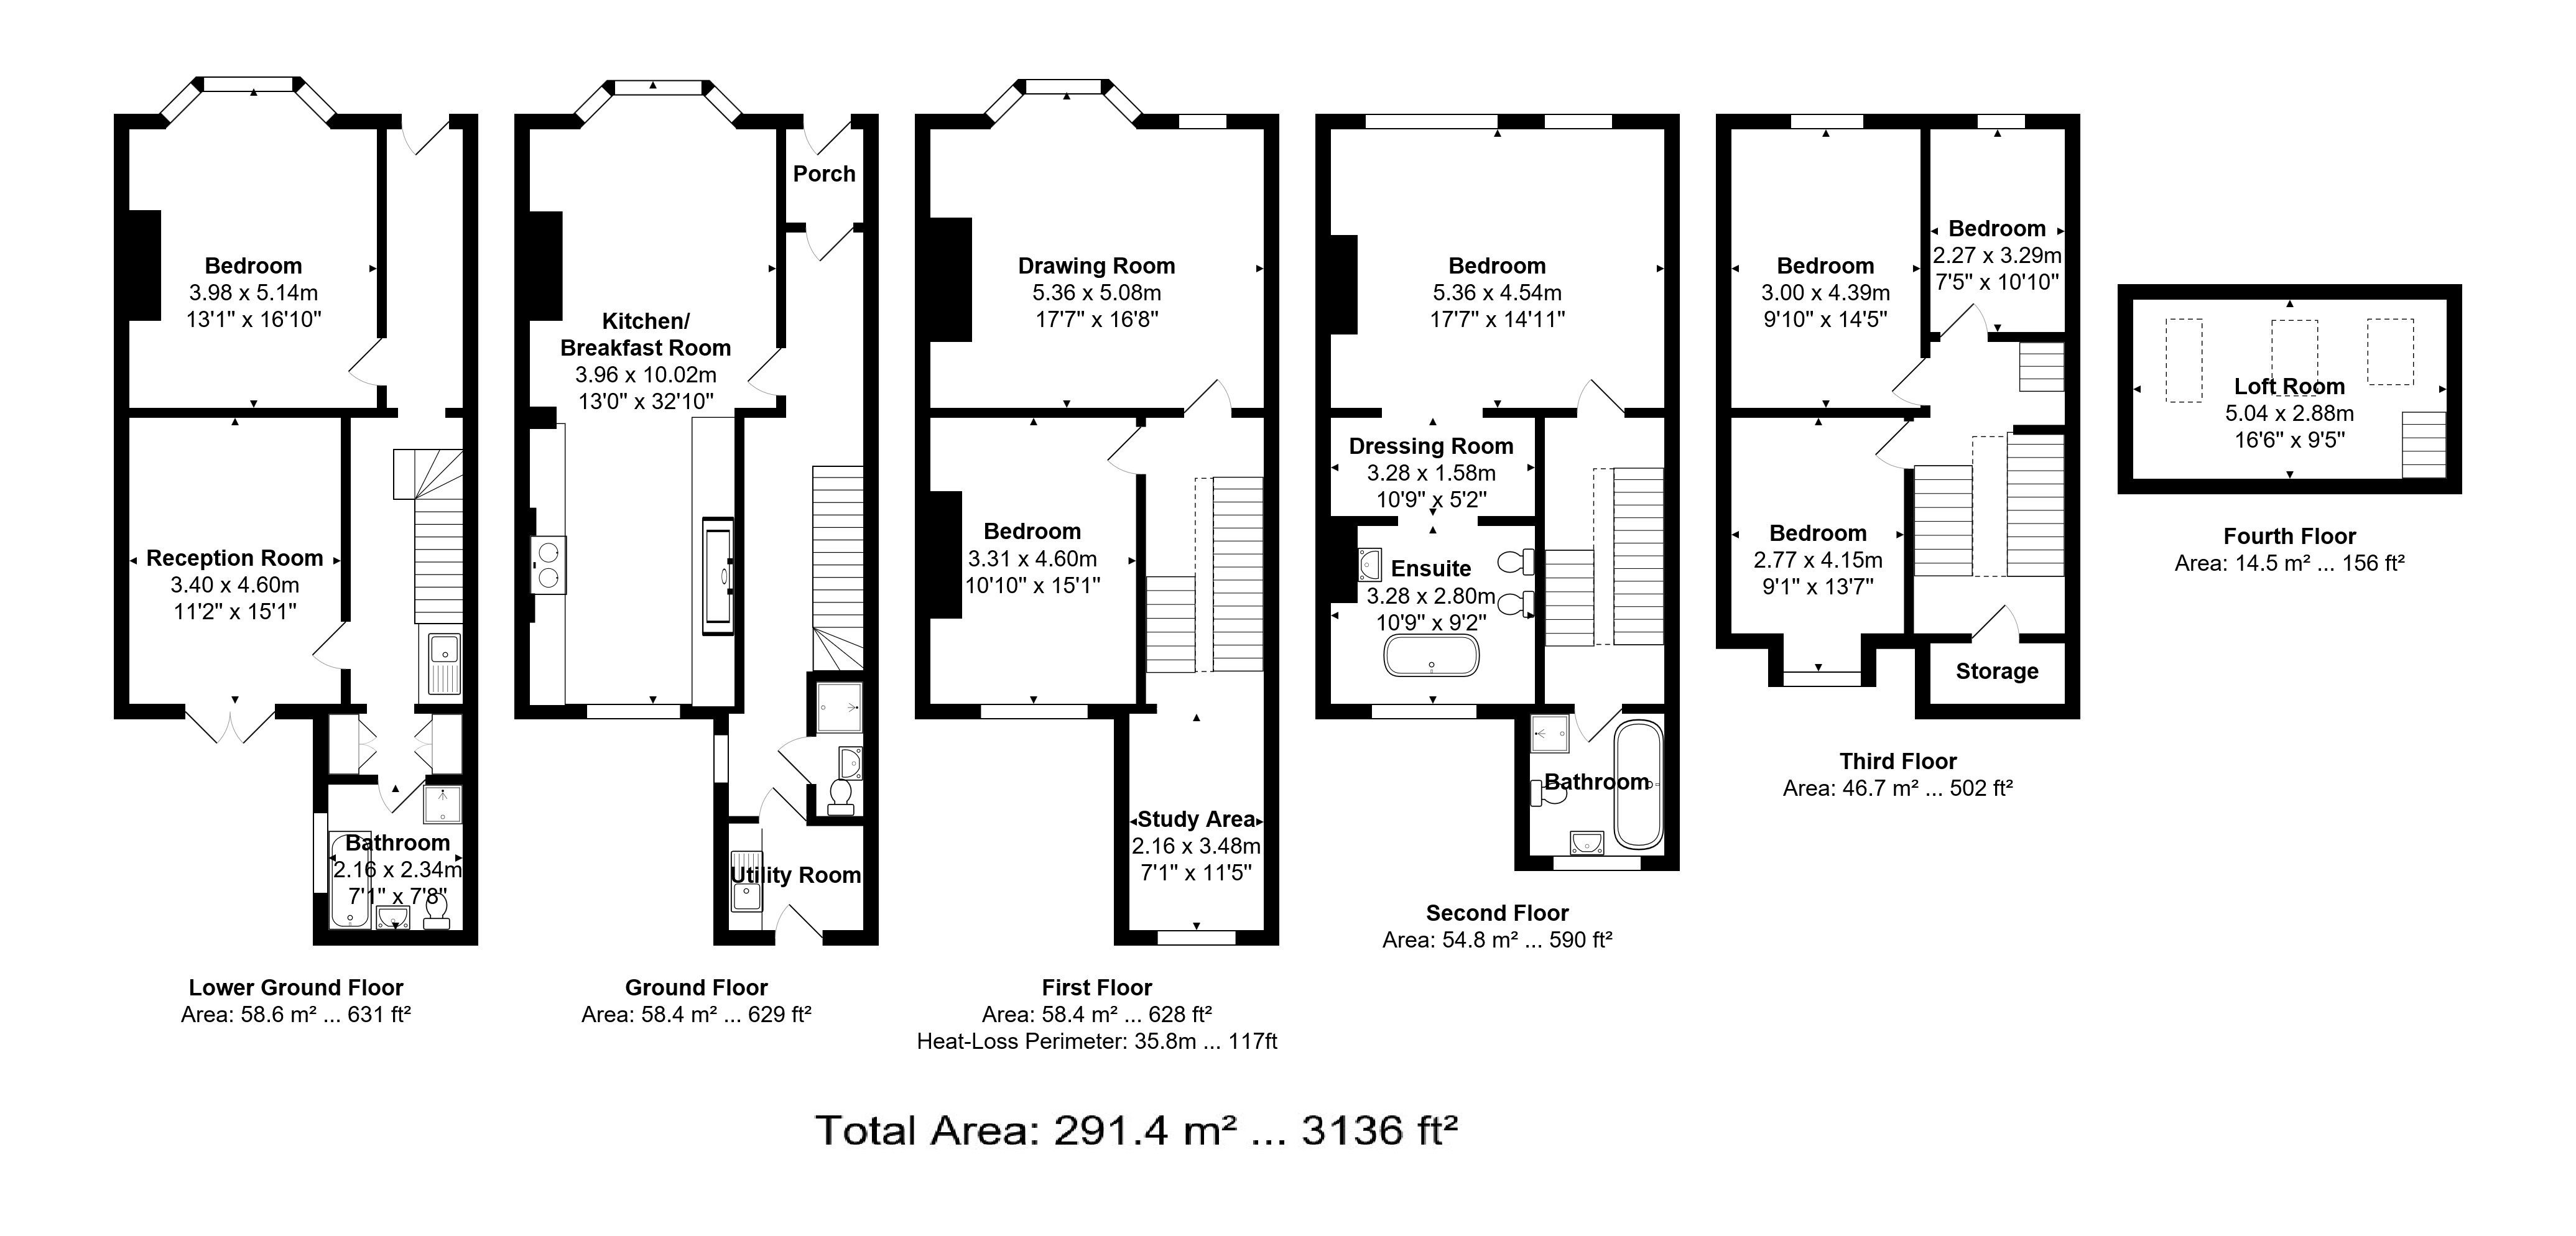door: (184, 699, 276, 748), (1572, 376, 1625, 420), (1569, 699, 1621, 744), (307, 620, 355, 668), (1106, 425, 1150, 476), (1970, 604, 2021, 648), (345, 340, 393, 386), (741, 348, 789, 394), (777, 734, 825, 780), (1893, 355, 1932, 407), (1874, 419, 1912, 473), (1937, 302, 1985, 345), (805, 225, 853, 263), (757, 788, 805, 824), (774, 903, 821, 939), (403, 121, 450, 158), (1183, 381, 1230, 417), (802, 120, 848, 156), (412, 716, 437, 771), (356, 716, 379, 771)
